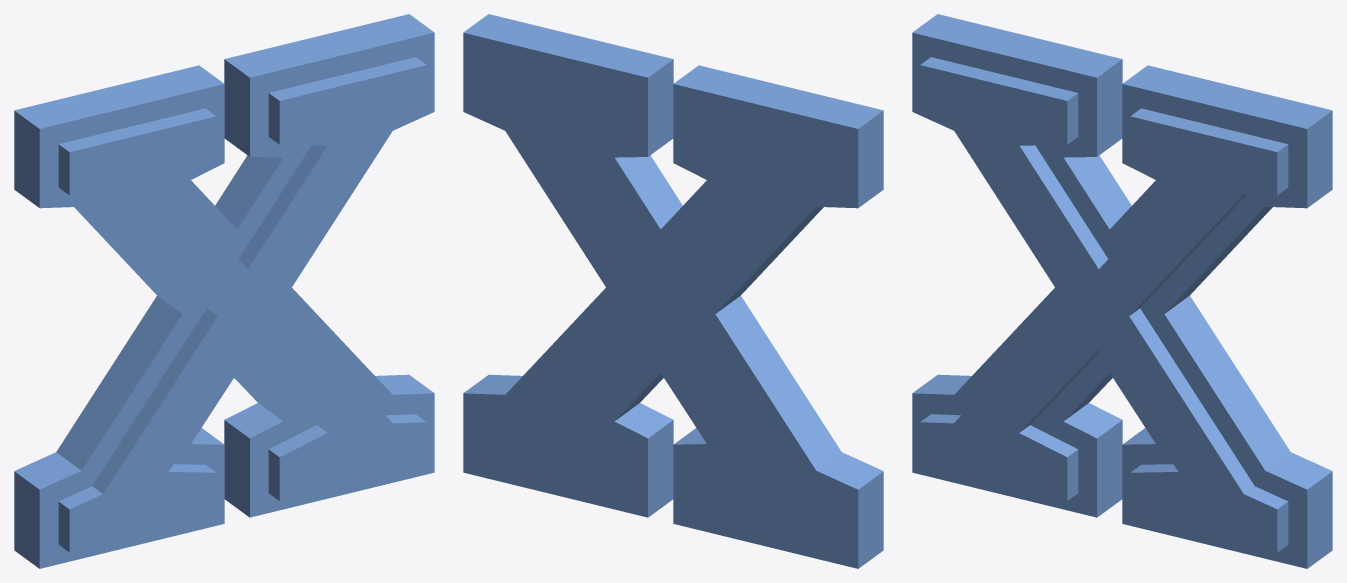
3 renders of one model, left to right at view 1: azimuth 30°, elevation 25°; view 2: azimuth 150°, elevation 25°; view 3: azimuth 330°, elevation 25°, orthographic.
Visible parts, largest first — view 1: x; view 2: x; view 3: x.
Part boxes in pixels (x1,y1,x2,y2): x: (14,14,434,568); x: (463,14,883,568); x: (912,14,1332,568).
Size of the model in its own units: 3.13 by 3.33 by 0.5.
